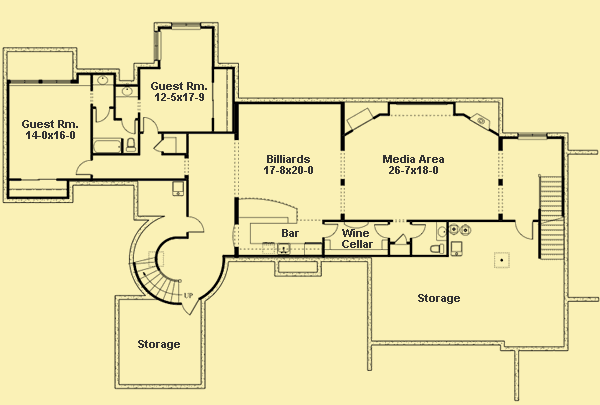door: (514, 220, 535, 242), (187, 214, 205, 236), (75, 159, 95, 178), (117, 117, 137, 136), (94, 105, 112, 126), (320, 220, 338, 240), (410, 223, 430, 240), (141, 117, 160, 133), (374, 223, 391, 238), (150, 137, 164, 153)
large_sink: (429, 241, 447, 257)
small_sink: (113, 85, 139, 99), (436, 220, 448, 241), (93, 76, 112, 86)
stairs: (128, 256, 191, 306), (538, 173, 568, 261)
tub: (93, 138, 121, 155)
window: (168, 21, 202, 30)
